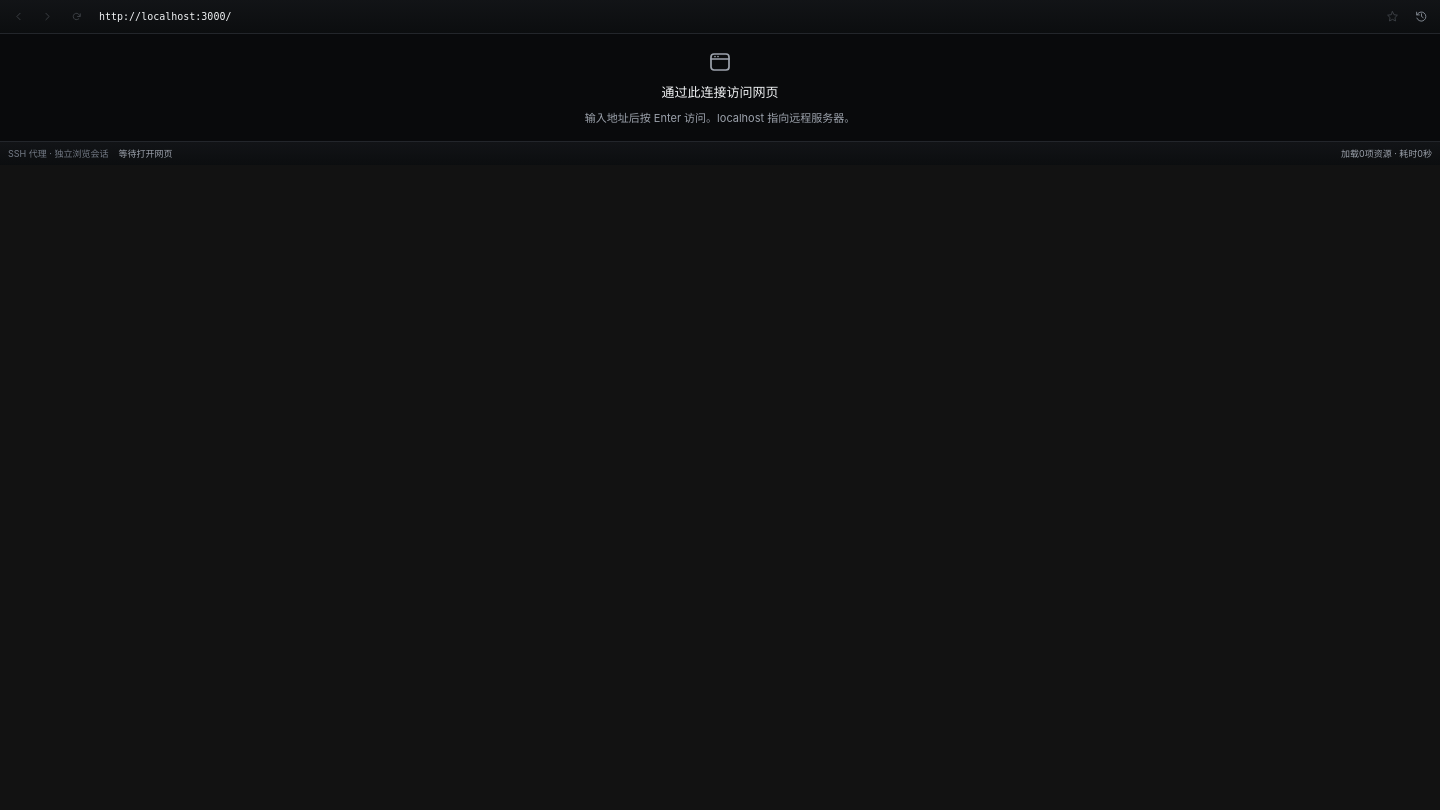
it: opens the full history dialog from the recent-address dropdown
Focus the dropdown named "网页地址" at (734, 16), box [94,4,1375,29]
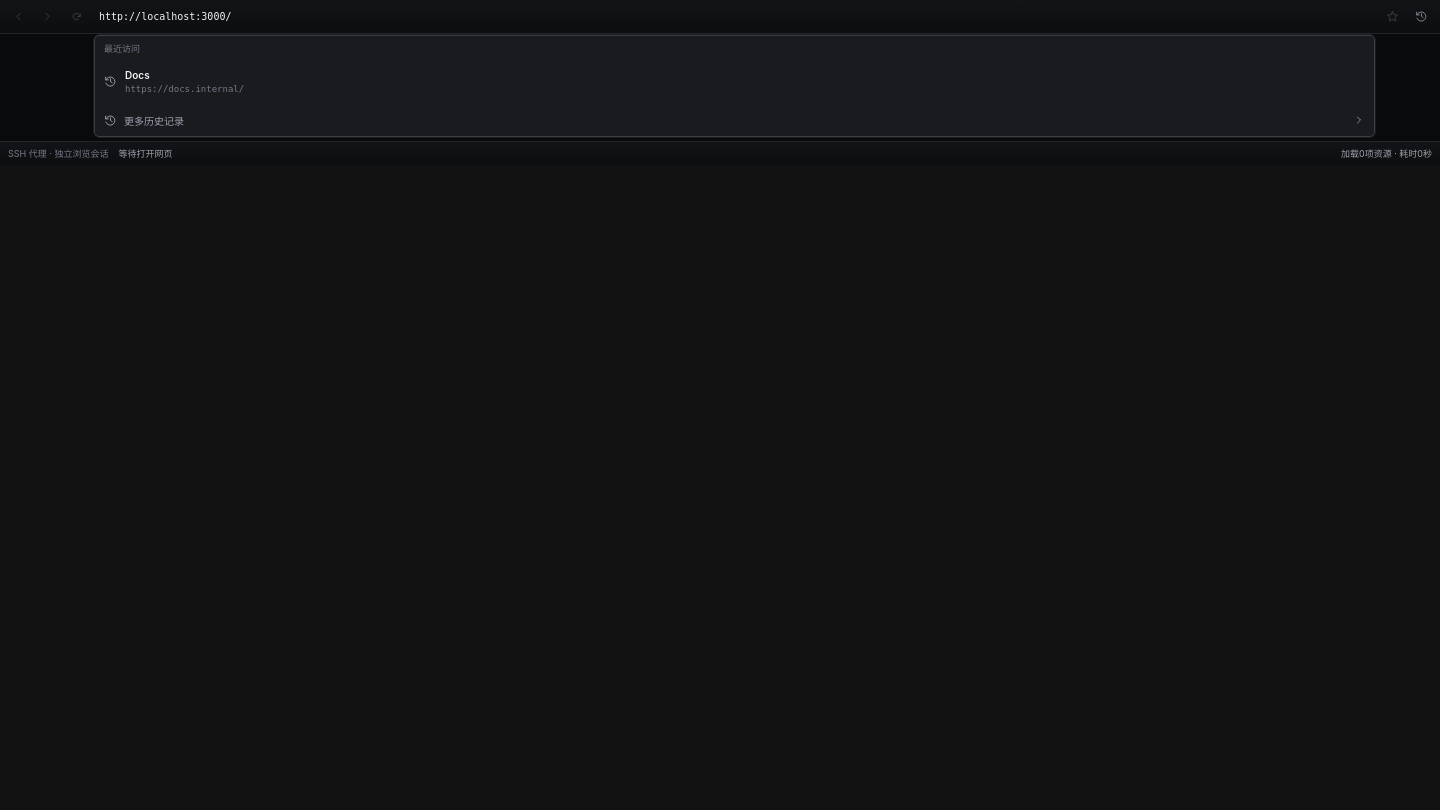
Expected: the list shows "Docs", [97,62,1372,100]
Click the option "更多历史记录" at (154, 120), box [97,106,1372,134]
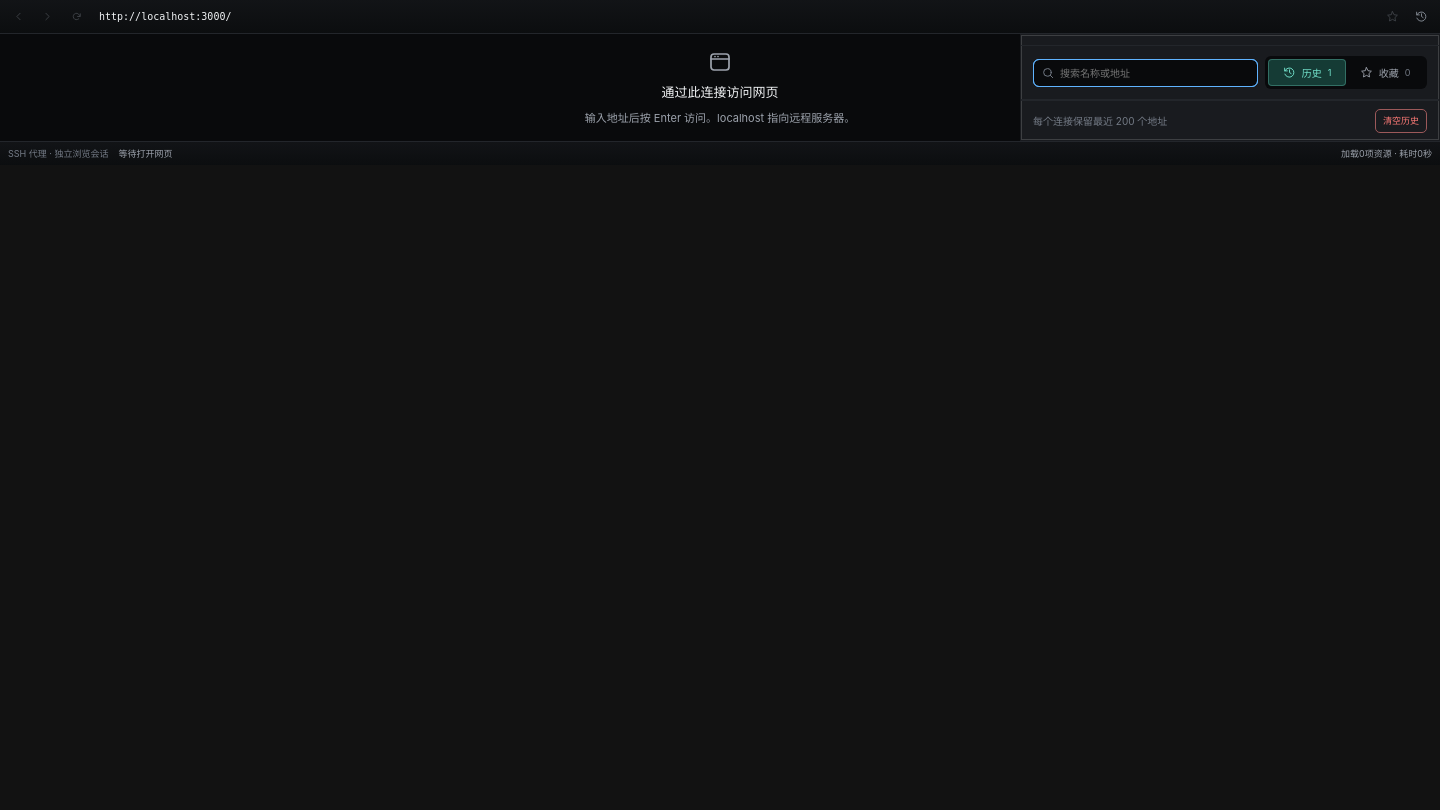
Expected: the list is gone
